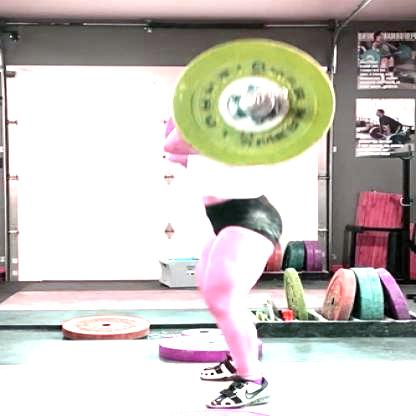Barbell: (248, 85, 281, 112)
